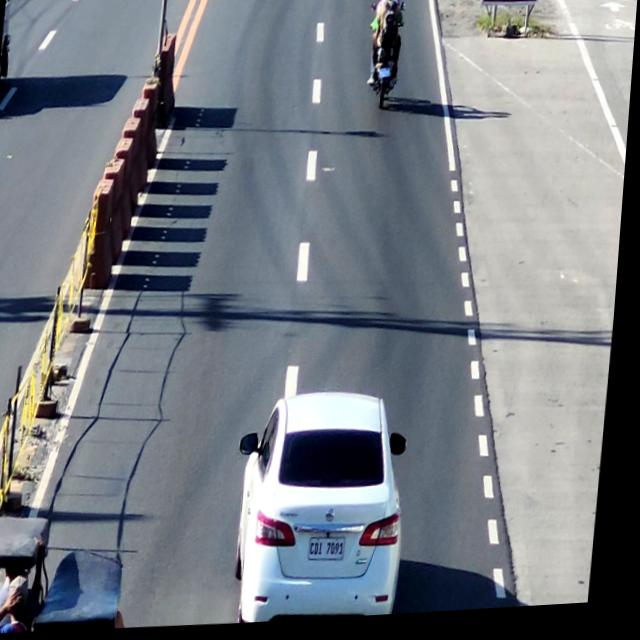Car: (230, 391, 431, 628)
License-Plate: (313, 537, 356, 571), (378, 70, 395, 86)
Motorcycle: (364, 0, 414, 125)
Tricycle: (0, 507, 147, 636)
